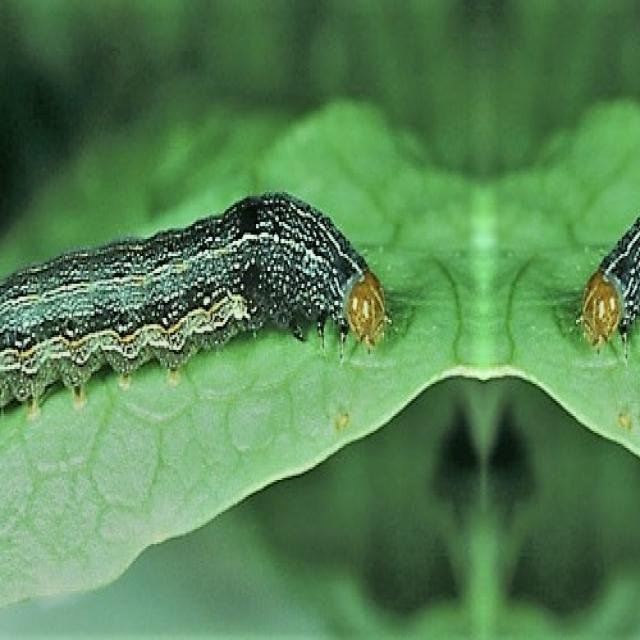Armyworm: (1, 172, 410, 426), (551, 180, 640, 353)
